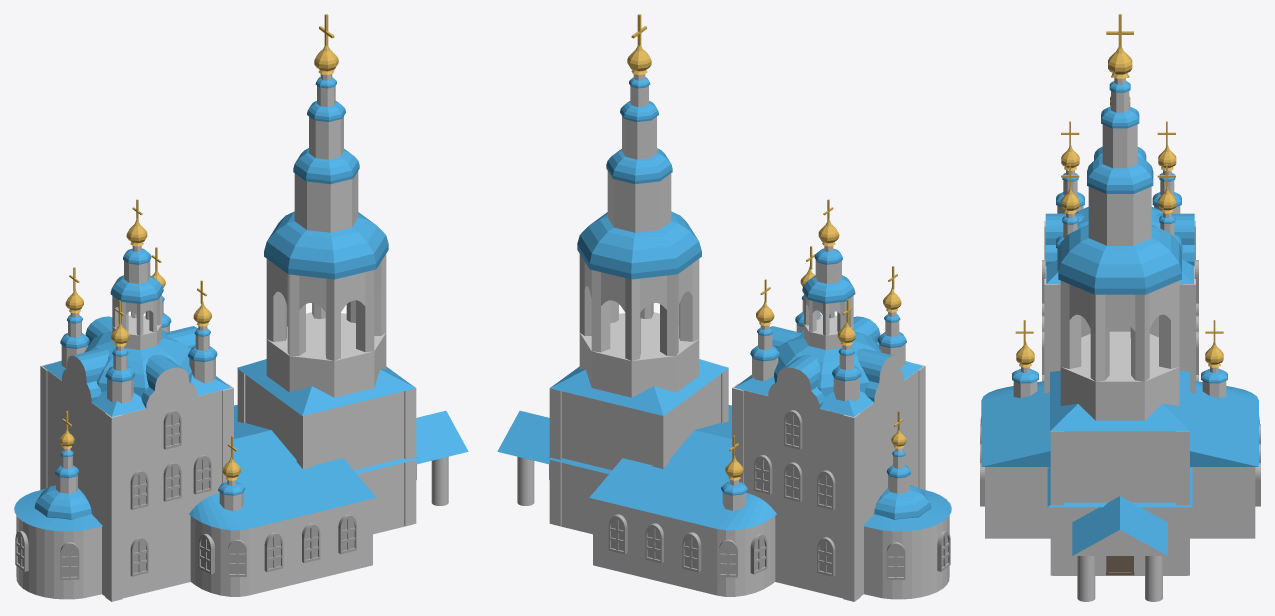
The model's file is troytskaya.glb.
The picture shows the model from 3 angles, left to right: view 1: azimuth 30°, elevation 25°; view 2: azimuth 150°, elevation 25°; view 3: azimuth 270°, elevation 25°; orthographic projection. The views are drawn at different scales.
Parts seen in each view (by area): view 1: Cylinder.022, Cylinder.021, Cylinder.072, Cube.022, Cylinder.001, Cylinder.002, Cube.007; view 2: Cylinder.022, Cylinder.021, Cylinder.072, Cube.022, Cylinder.001, Cylinder.002, Cube.007; view 3: Cylinder.022, Cylinder.021, Cube.007, Cube.022, Cylinder.001, Cylinder.072, Cylinder.004, Cylinder.083.
Part boxes in pixels (x1=…): Cylinder.022: x1=16, y1=74, x2=448, y2=601; Cylinder.021: x1=14, y1=77, x2=415, y2=531; Cylinder.072: x1=15, y1=410, x2=356, y2=579; Cube.022: x1=59, y1=14, x2=338, y2=480; Cylinder.001: x1=85, y1=316, x2=197, y2=408; Cylinder.002: x1=62, y1=326, x2=197, y2=402; Cube.007: x1=416, y1=410, x2=468, y2=464; Cylinder.022: x1=517, y1=74, x2=949, y2=601; Cylinder.021: x1=550, y1=77, x2=951, y2=531; Cylinder.072: x1=608, y1=410, x2=950, y2=579; Cube.022: x1=627, y1=14, x2=906, y2=480; Cylinder.001: x1=768, y1=316, x2=880, y2=408; Cylinder.002: x1=770, y1=326, x2=903, y2=402; Cube.007: x1=497, y1=410, x2=549, y2=464; Cylinder.022: x1=985, y1=77, x2=1255, y2=601; Cylinder.021: x1=981, y1=81, x2=1258, y2=466; Cube.007: x1=1072, y1=496, x2=1167, y2=555; Cube.022: x1=1015, y1=14, x2=1223, y2=367; Cylinder.001: x1=1045, y1=213, x2=1194, y2=266; Cylinder.072: x1=980, y1=260, x2=1260, y2=506; Cylinder.004: x1=1047, y1=467, x2=1192, y2=507; Cylinder.083: x1=1106, y1=556, x2=1134, y2=575.
Bounding box in the file's own units: 3.88 × 4.35 × 2.08.
